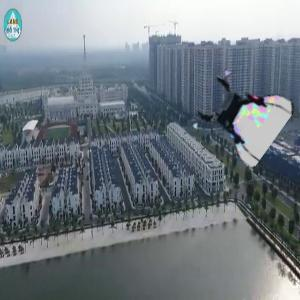drone: (196, 72, 284, 160)
